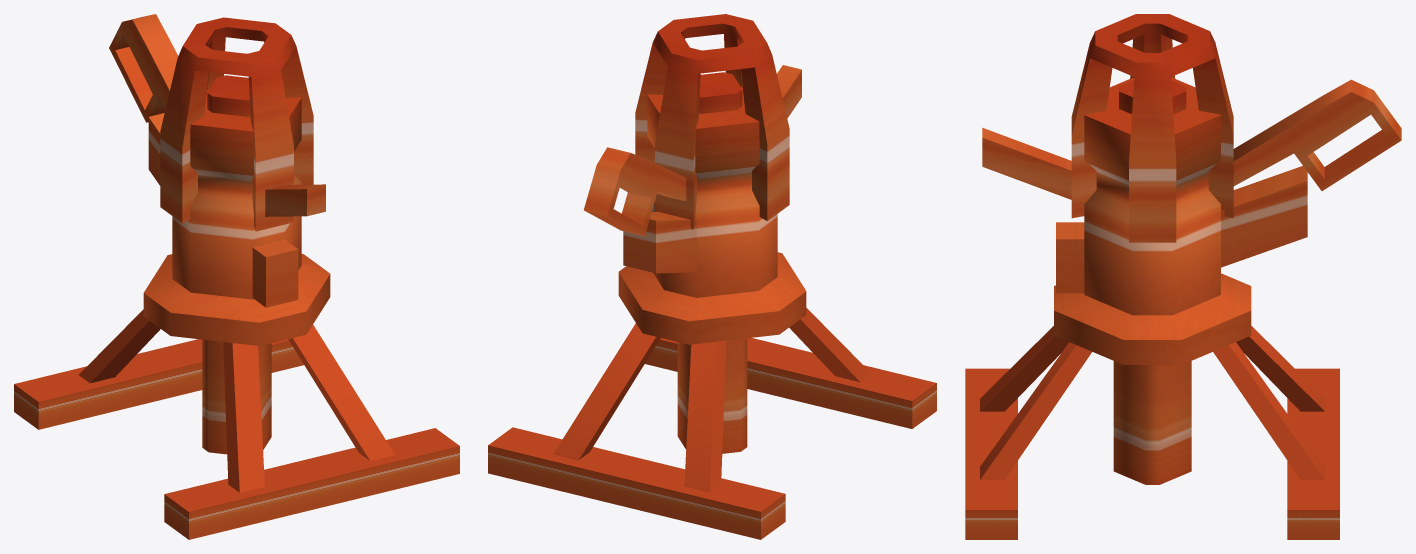
File: SprinklerHand.fbx
3 renders of one model, left to right at view 1: azimuth 30°, elevation 25°; view 2: azimuth 150°, elevation 25°; view 3: azimuth 270°, elevation 25°, orthographic. The views are drawn at different scales.
Visible parts, largest first — view 1: Sprinkler, Top; view 2: Sprinkler, Top; view 3: Sprinkler, Top.
Part boxes in pixels (x1,y1,x2,y2): Sprinkler: (14, 75, 459, 539); Top: (109, 14, 325, 231); Sprinkler: (488, 72, 936, 539); Top: (584, 14, 801, 236); Sprinkler: (965, 77, 1339, 539); Top: (982, 14, 1401, 242).
Bounding box in the file's own units: 0.4718 × 0.6695 × 0.6142.
